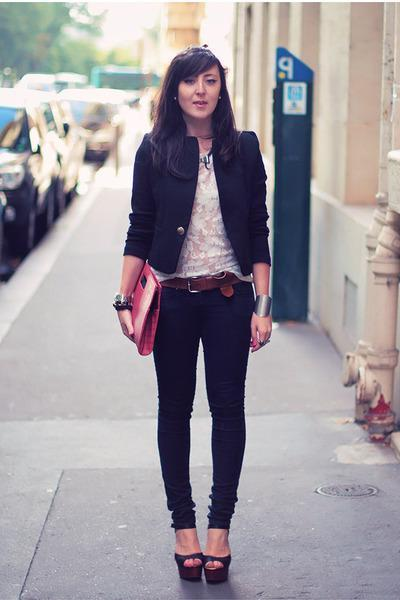jacket: (119, 125, 272, 272)
short sleeve shirt: (148, 143, 250, 284)
trousers: (146, 277, 258, 536)
